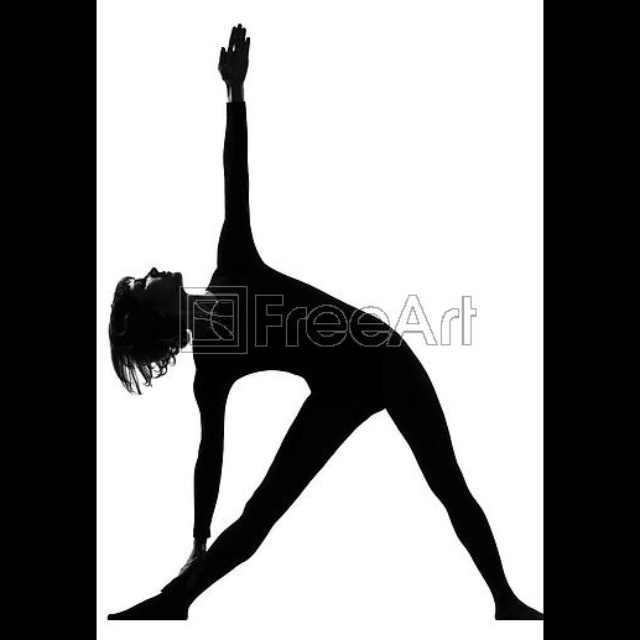Triangle_Pose: (102, 19, 541, 626)
